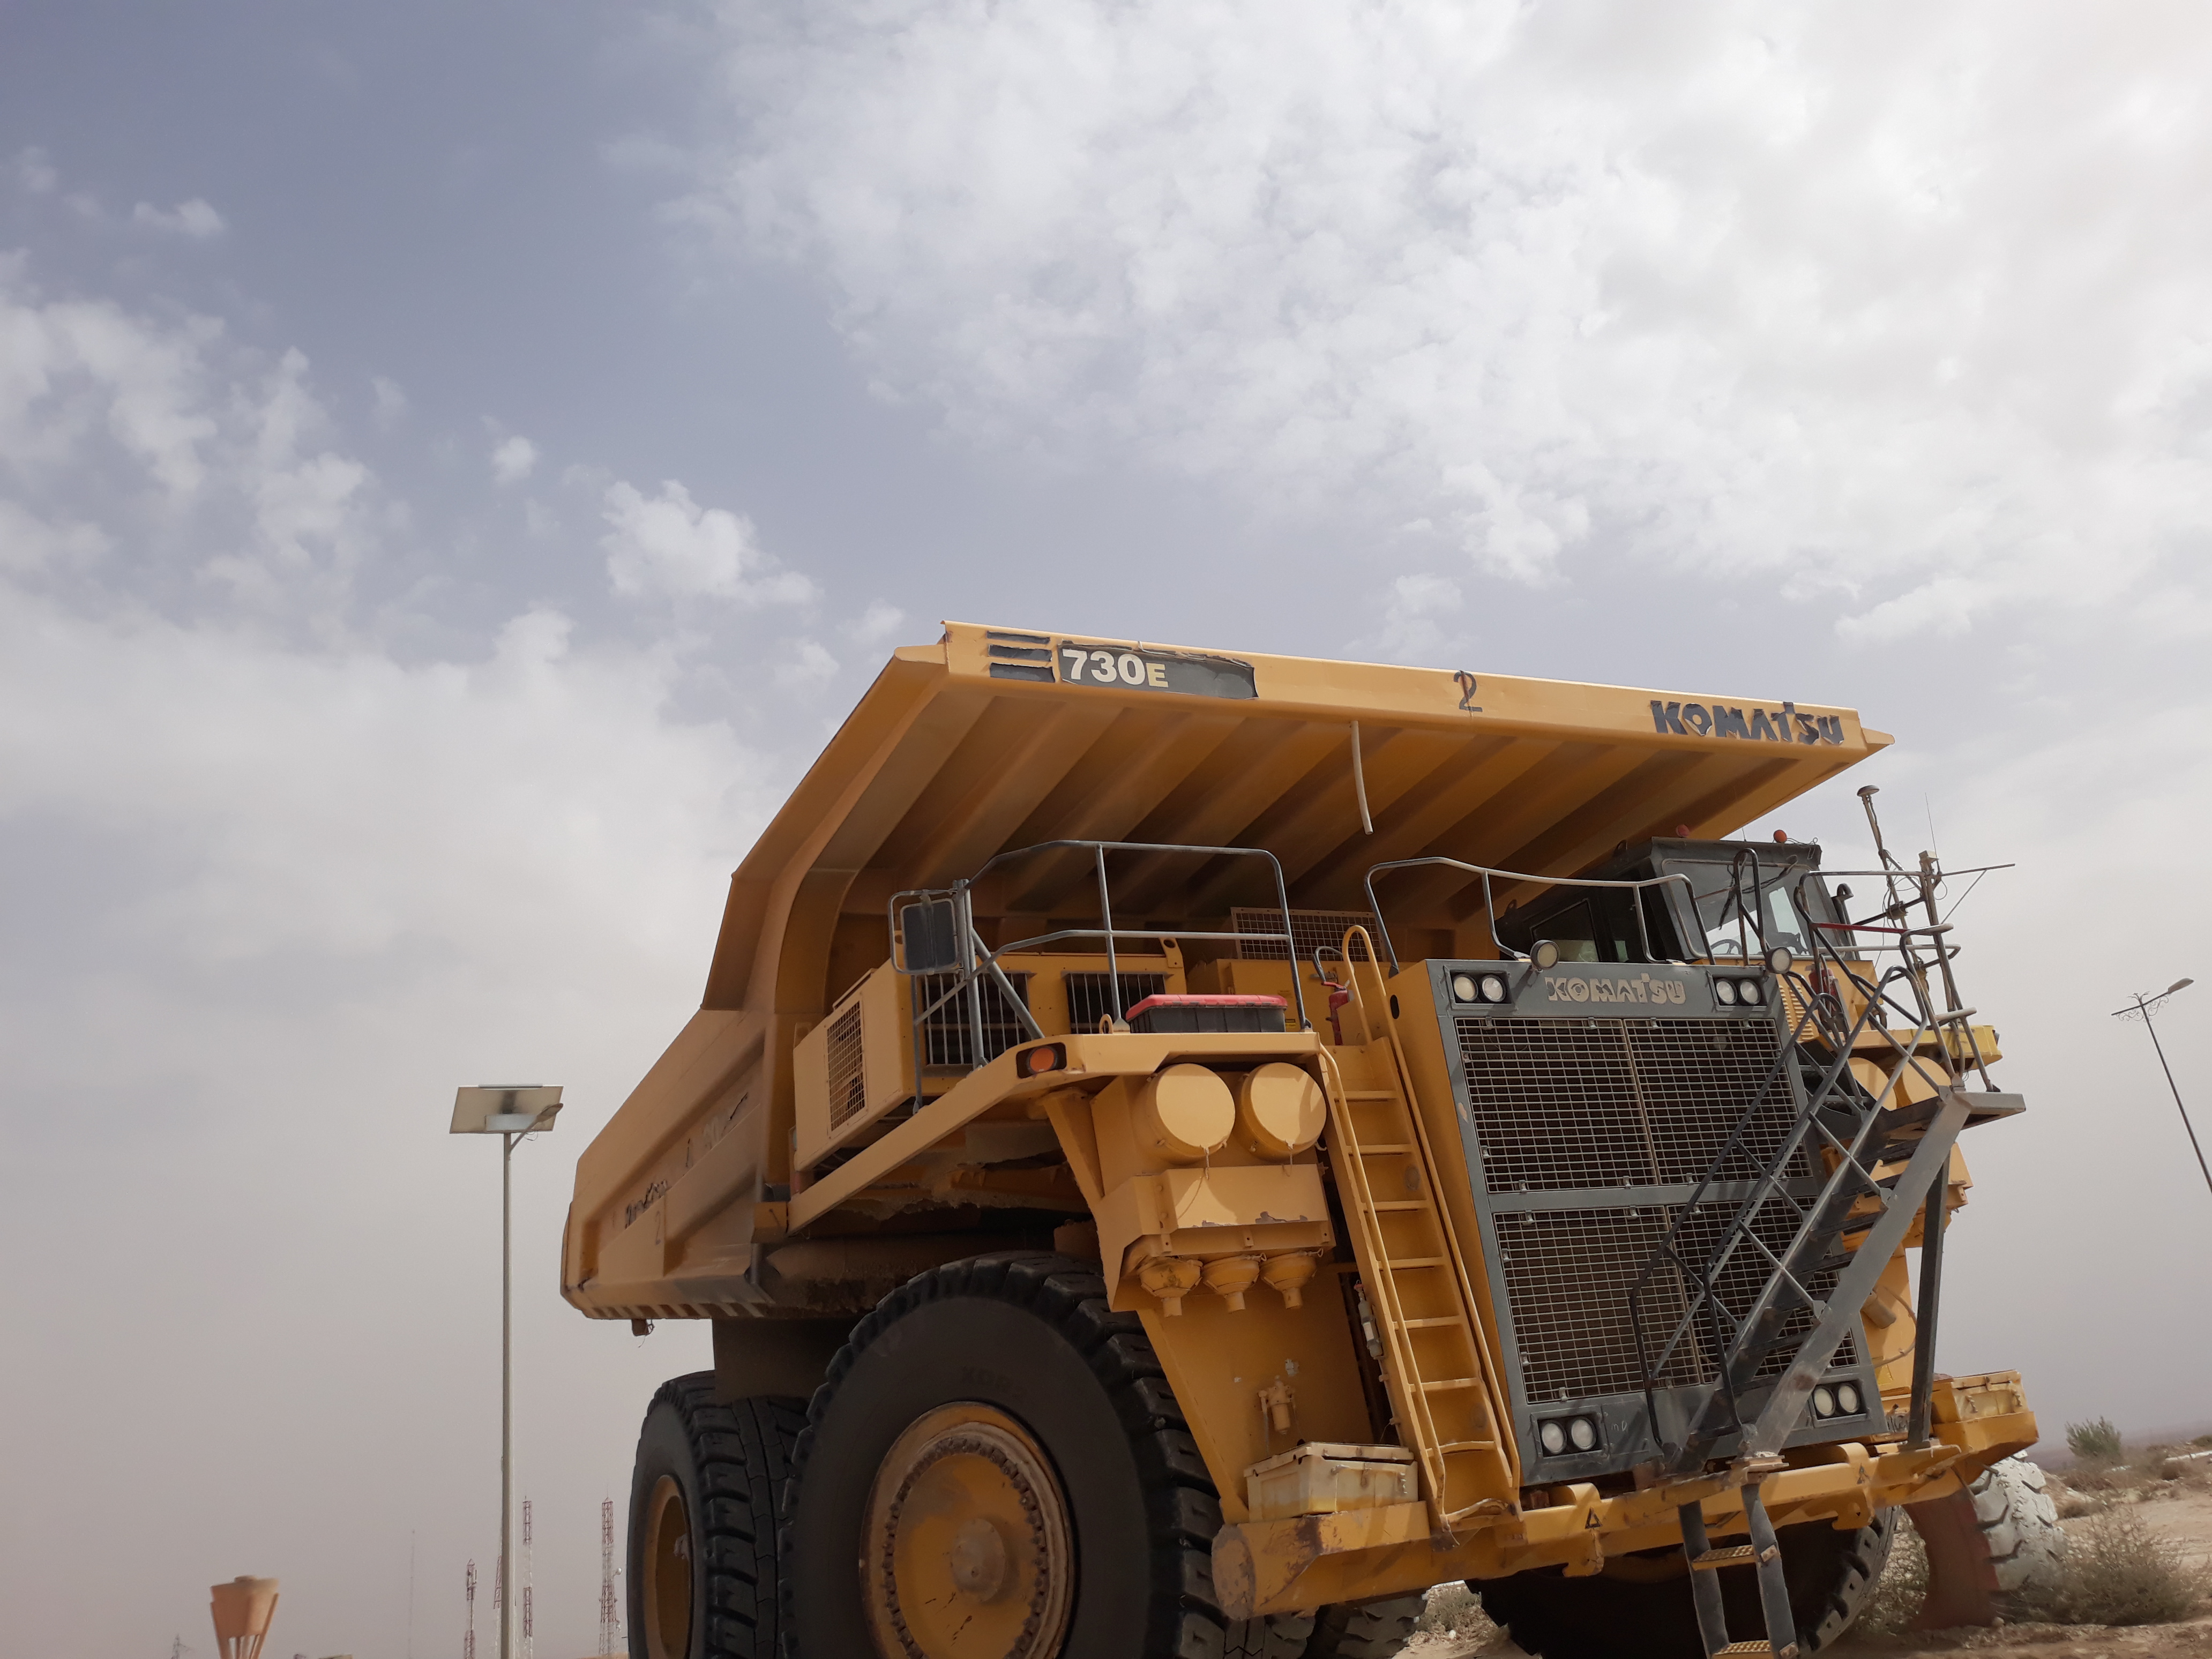camion: (561, 615, 2050, 1657)
